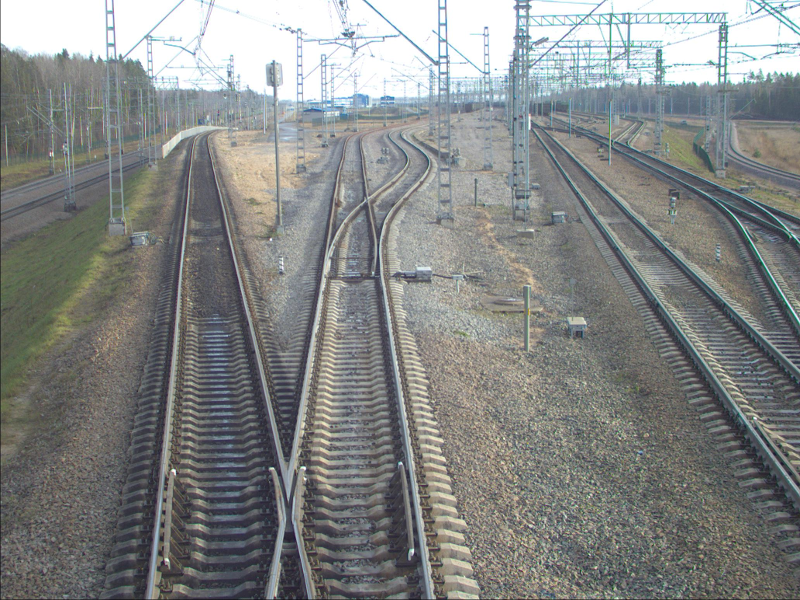right: (323, 246, 387, 280)
